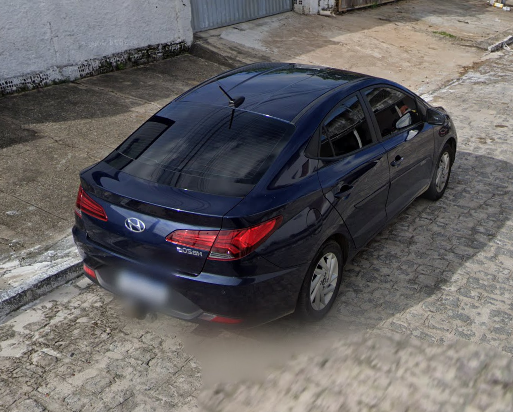car: (72, 60, 459, 331)
